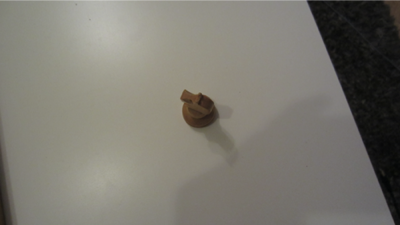white-knight: (180, 89, 217, 129)
